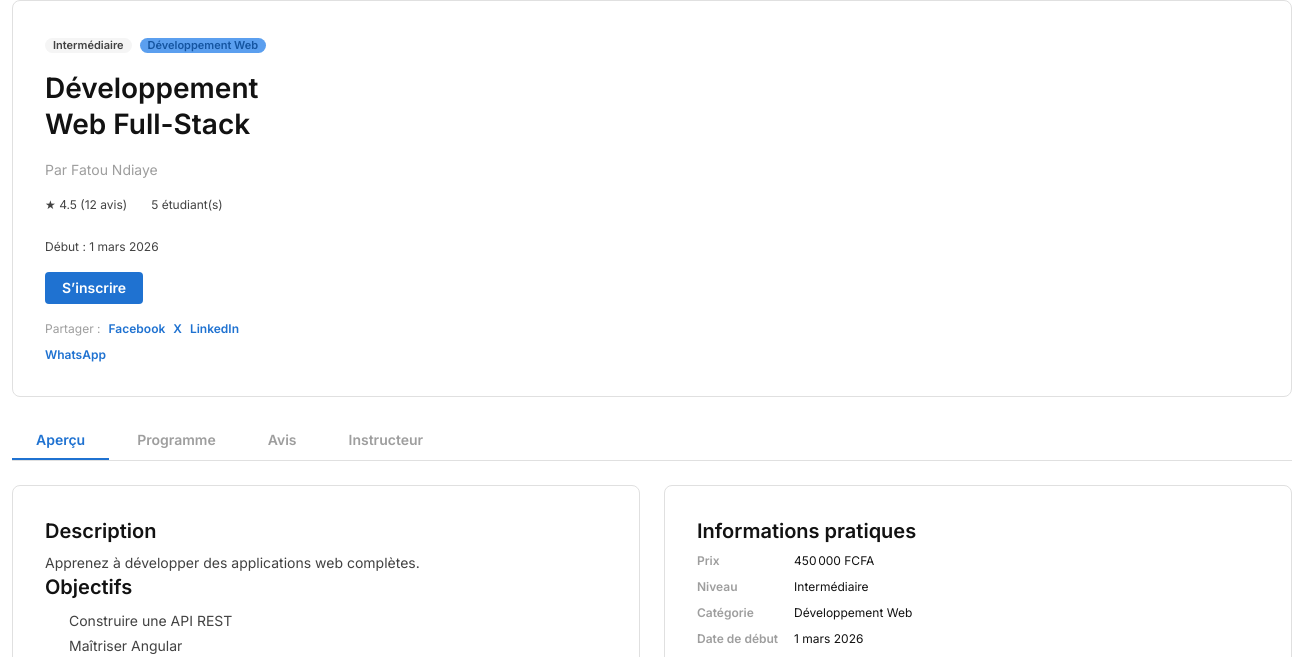
Test case: FormationDetailComponent › should enroll a student and show a success notice
The width and height of the screenshot is (1292, 657).
Step 1. Click the button "S’inscrire" → (94, 288), box [45,272,143,304]
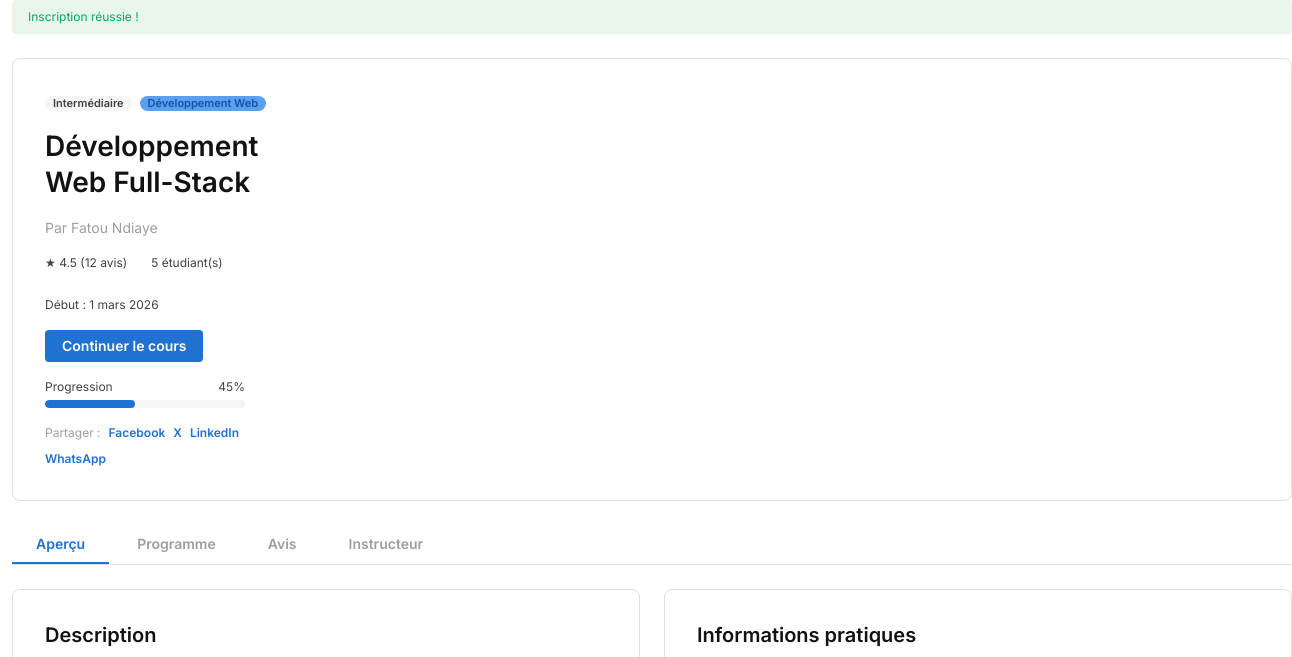
Now the message with class "detail__notice" shows "Inscription réussie", box [28,9,139,24]
